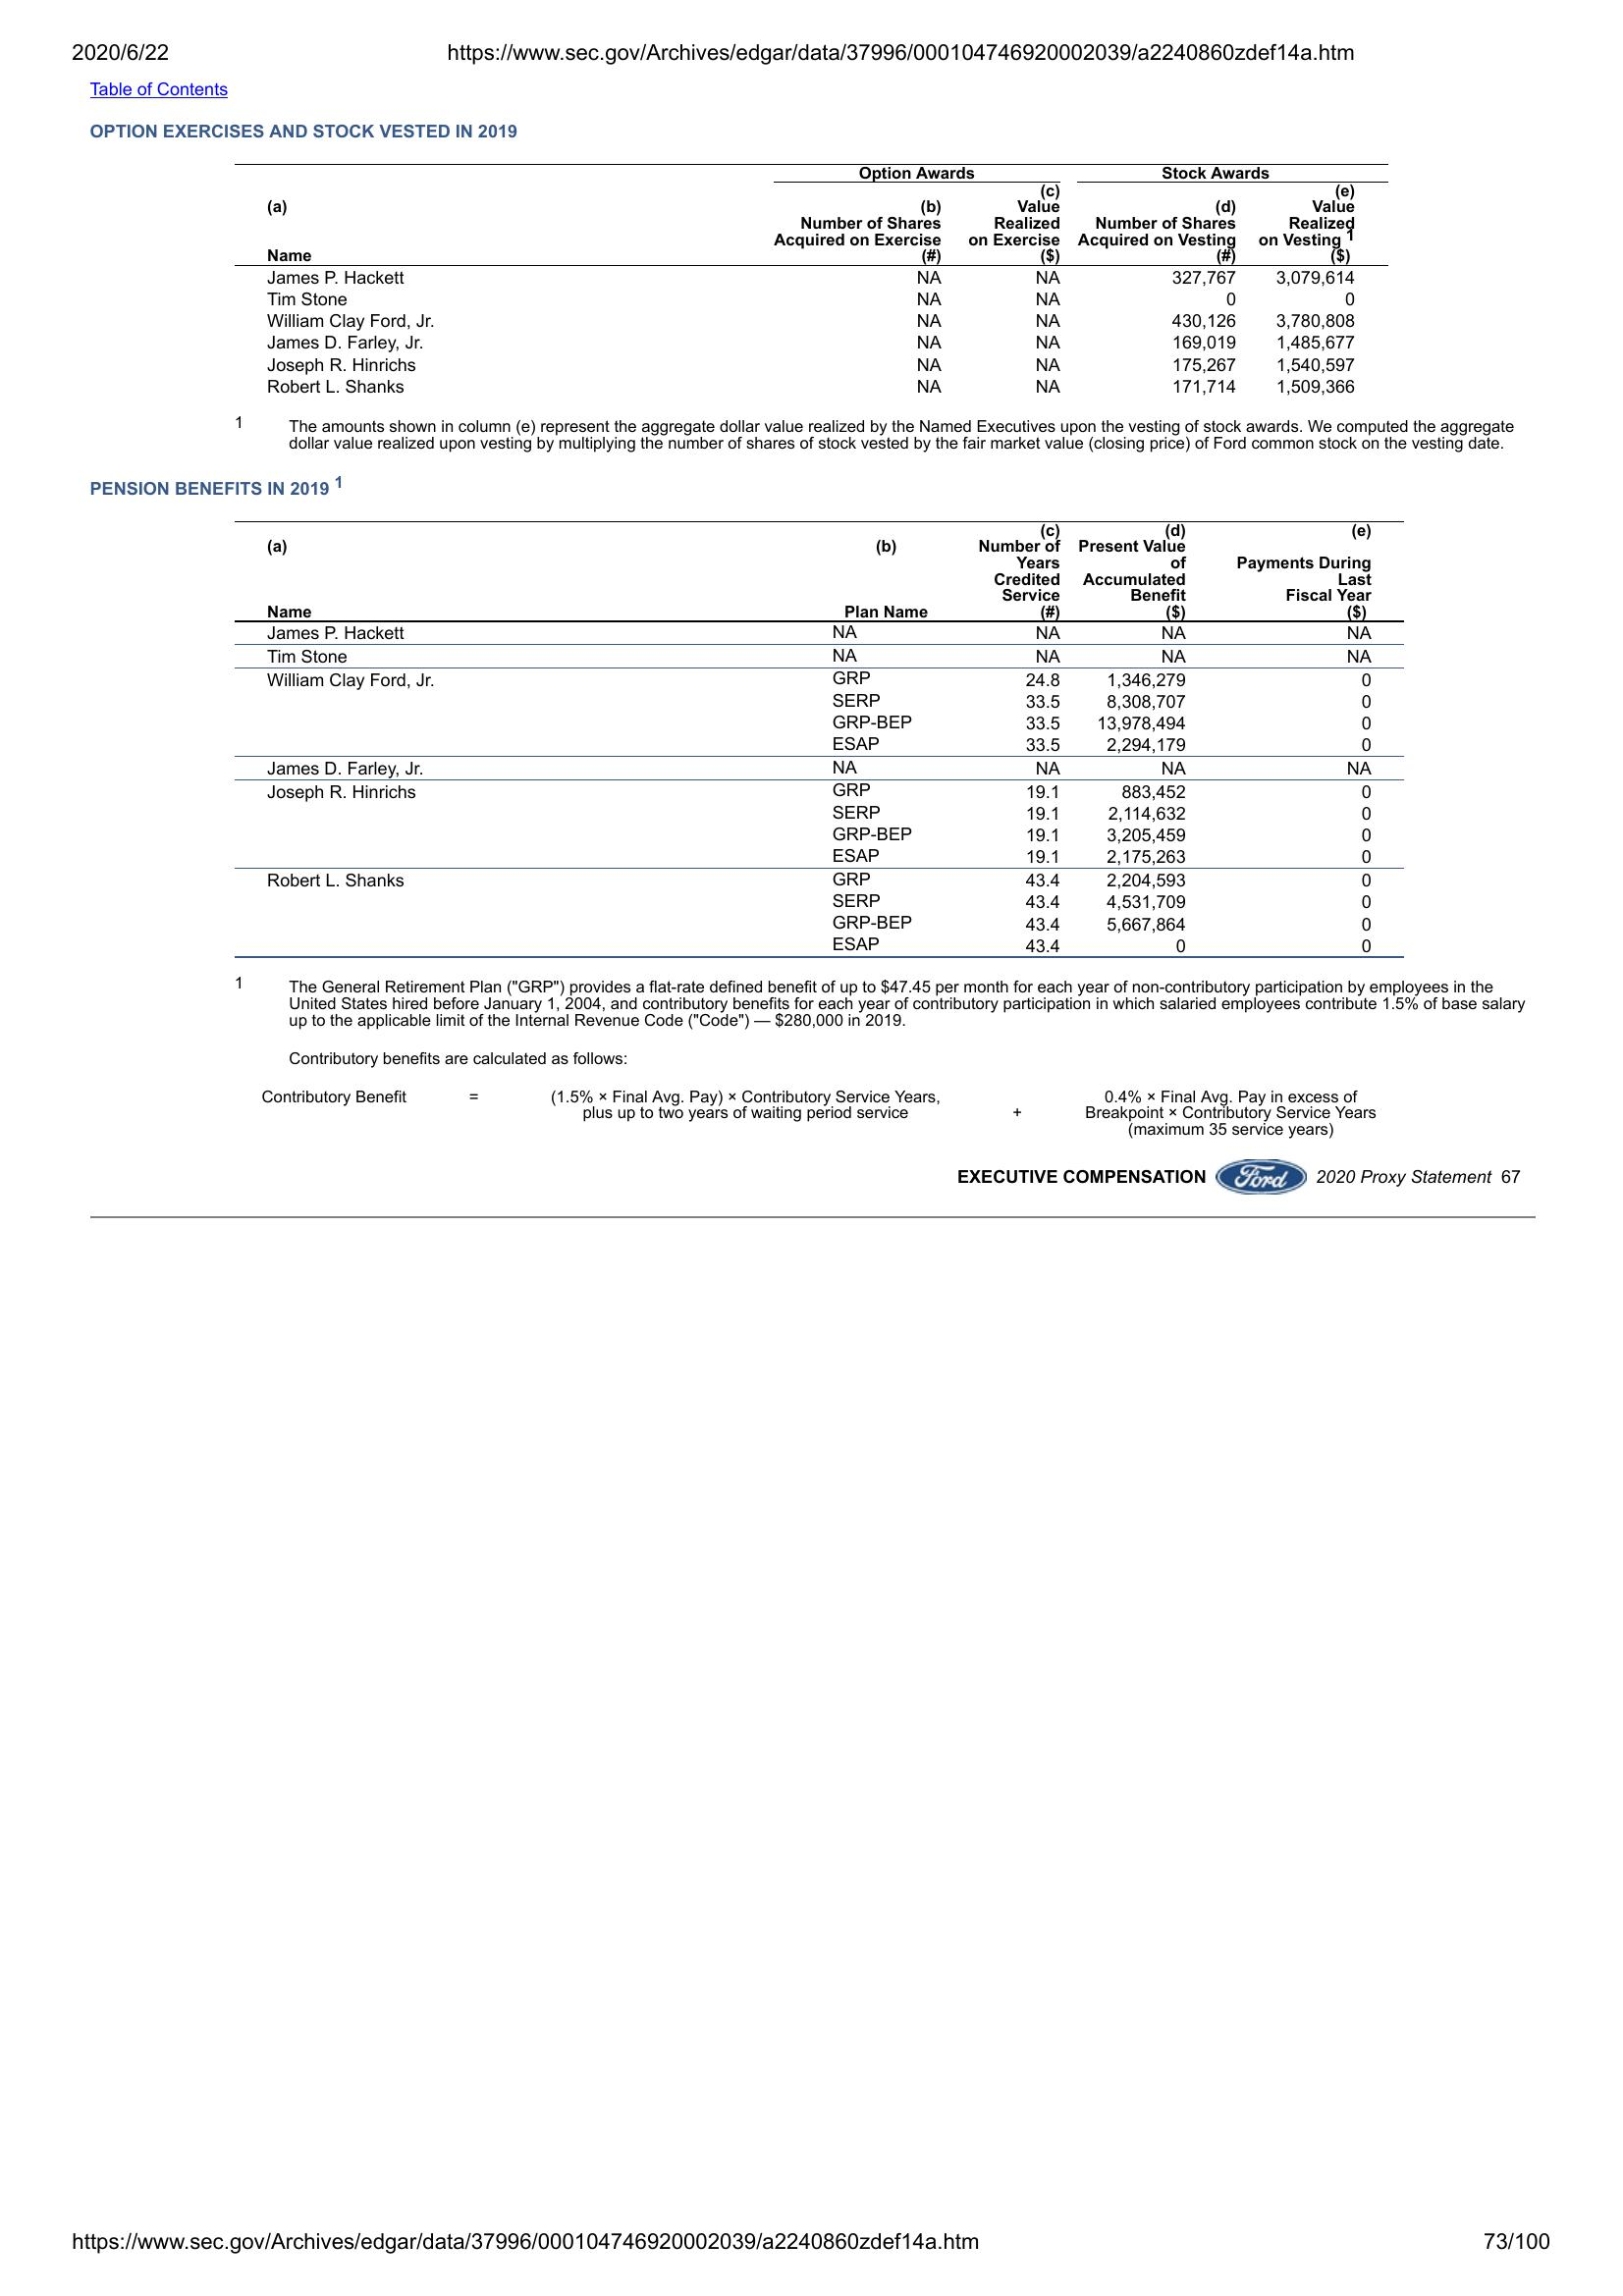table: (230, 516, 1410, 965), (230, 156, 1396, 395)
